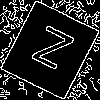Z: (25, 25, 76, 80)
